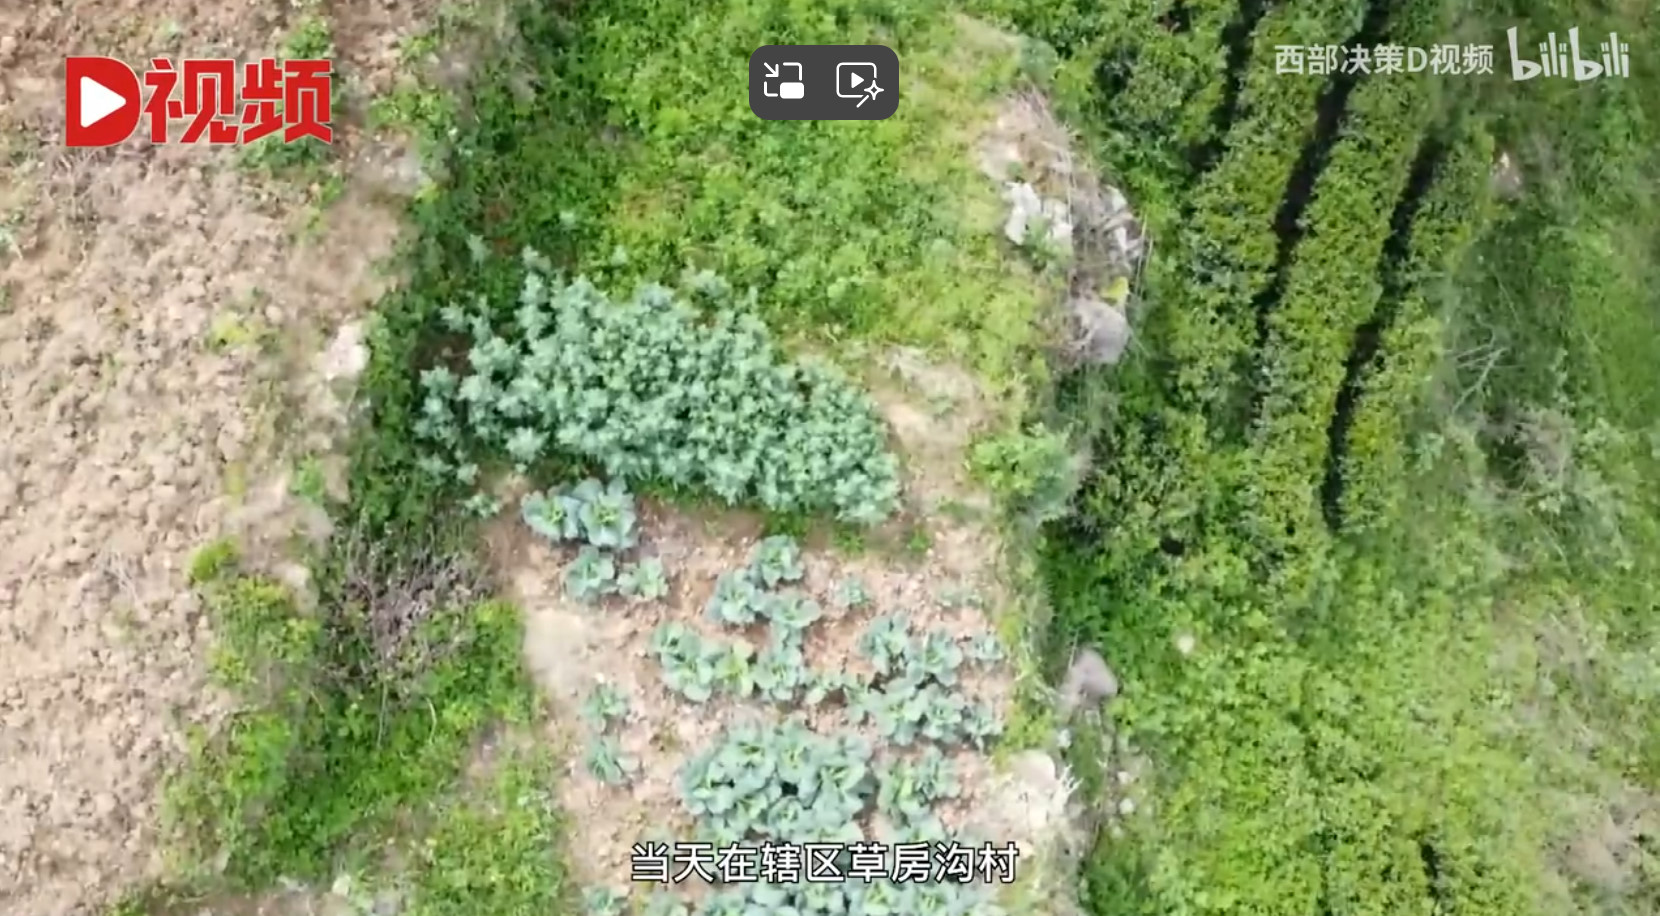Poppy: (424, 243, 925, 546), (653, 514, 1031, 914), (568, 676, 641, 796), (560, 541, 679, 604)
